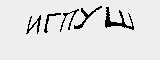Г: (43, 10, 63, 34)
И: (25, 14, 43, 36)
П: (58, 7, 77, 35)
У: (73, 5, 103, 27)
Ш: (103, 7, 134, 30)
